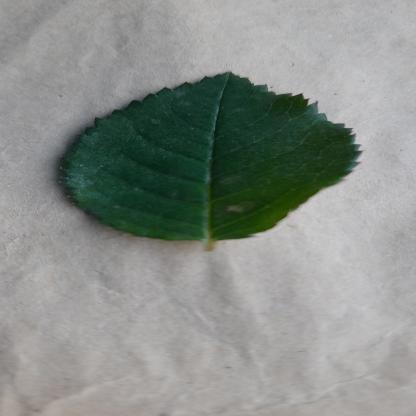normal: (53, 72, 362, 241)
